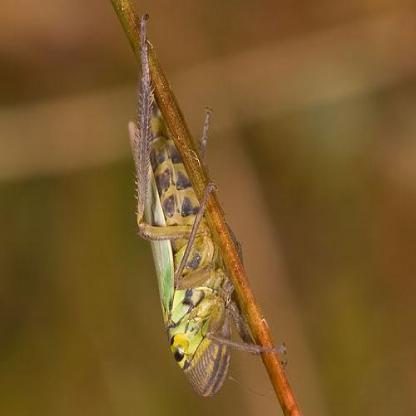Green-Leafhopper: (117, 12, 292, 403)
